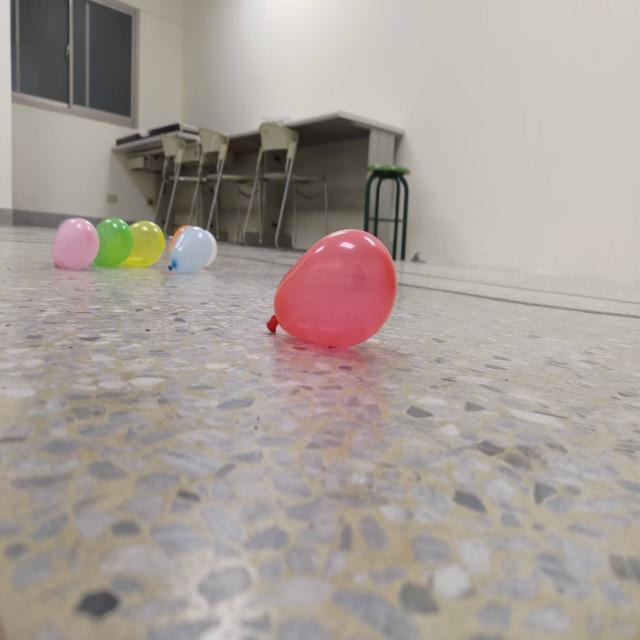other: (52, 216, 99, 268), (167, 226, 211, 274), (96, 218, 131, 268), (128, 220, 164, 266)
red: (268, 228, 397, 348)
